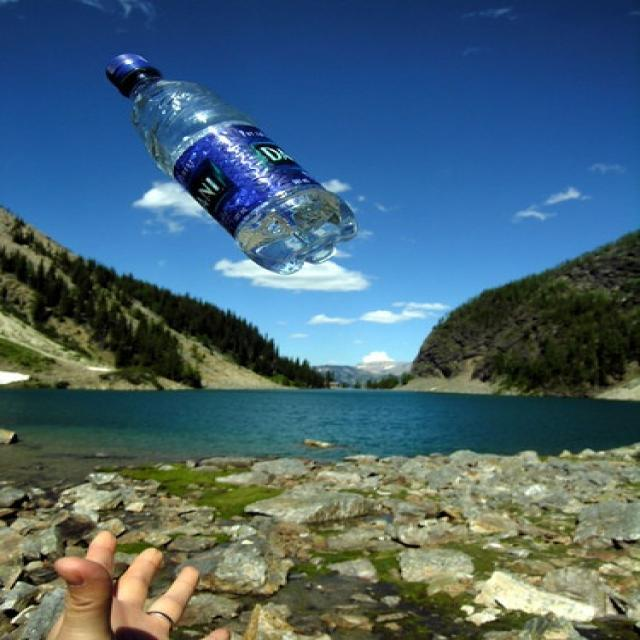plastic_bottle: (106, 52, 357, 276)
